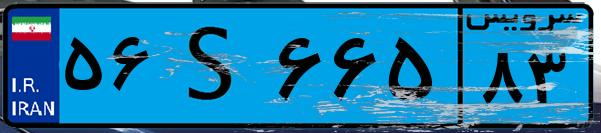3: (525, 38, 570, 115)
5: (385, 28, 445, 110), (57, 26, 110, 100)
6: (270, 28, 330, 110), (330, 28, 385, 110), (110, 28, 158, 98)
8: (475, 38, 525, 113)
S: (158, 12, 270, 120)
